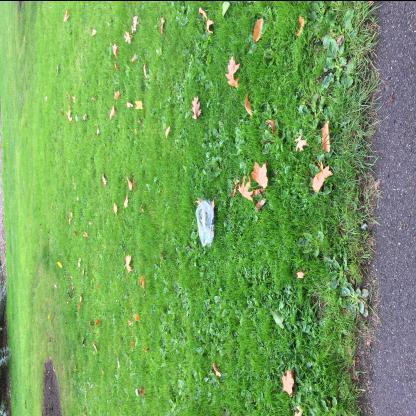plastik: (196, 200, 216, 246)
